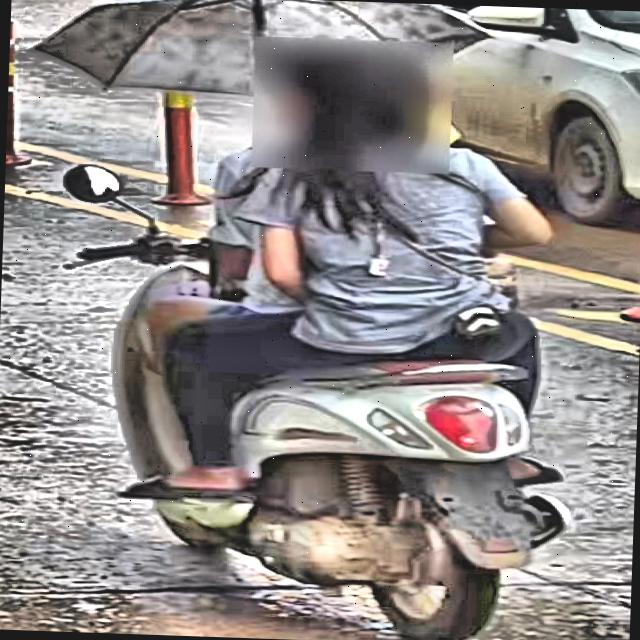motorcycle: (15, 154, 640, 640)
